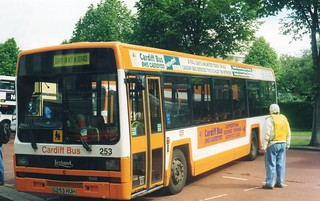bus: (12, 41, 277, 201)
